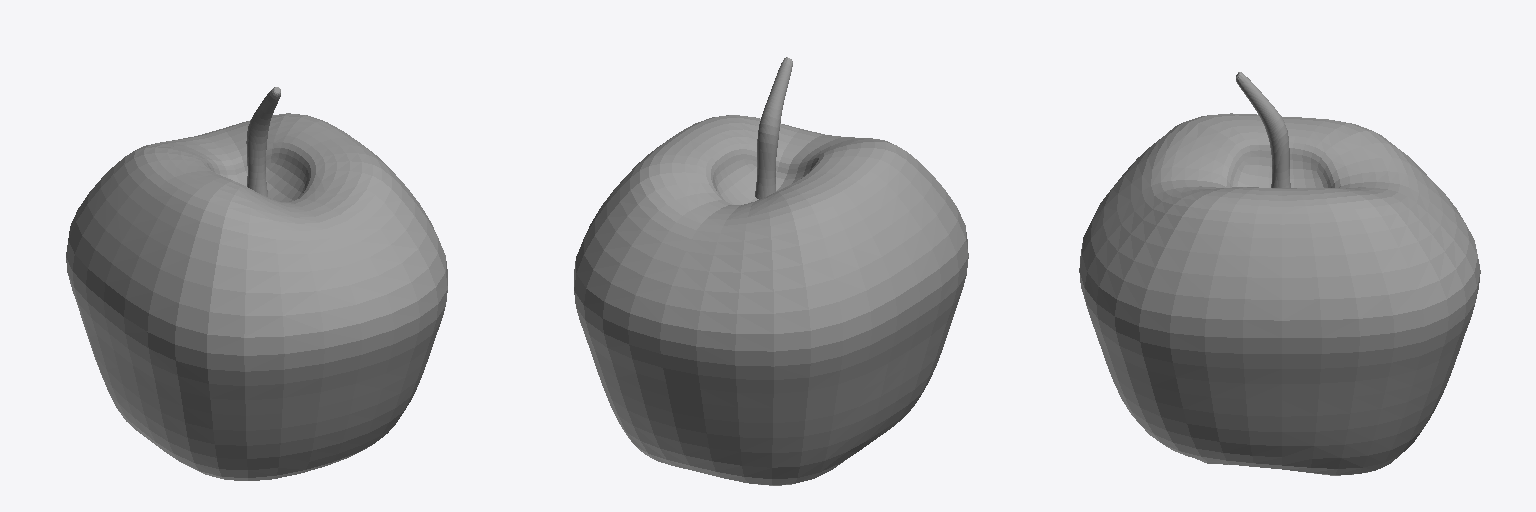
File: apple.obj
3 views of the same model, side by side, from view 1: azimuth 30°, elevation 25°; view 2: azimuth 150°, elevation 25°; view 3: azimuth 270°, elevation 25° (orthographic).
Visible parts, largest first — view 1: Apple_Cube; view 2: Apple_Cube; view 3: Apple_Cube.
Part boxes in pixels (x1,y1,x2,y2): Apple_Cube: (66,87,447,480); Apple_Cube: (574,57,968,485); Apple_Cube: (1079,72,1480,475).
Bounding box in the file's own units: 1.11 × 1.28 × 1.26.